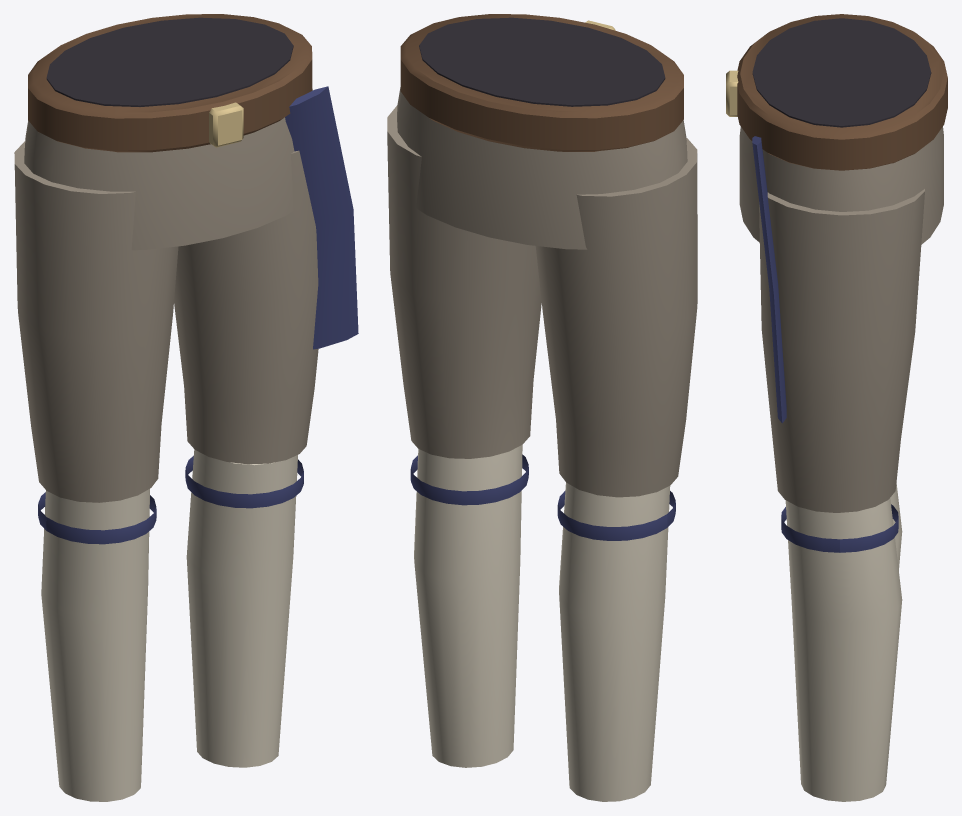
Rendered from scholars_breeches.glb.
The picture shows the model from 3 angles, left to right: view 1: azimuth 30°, elevation 25°; view 2: azimuth 150°, elevation 25°; view 3: azimuth 270°, elevation 25°; orthographic projection. The views are drawn at different scales.
Visible parts, largest first — view 1: scholars_breeches; view 2: scholars_breeches; view 3: scholars_breeches.
Boxes of the visible parts, bbox=[...] form: scholars_breeches: bbox=[14, 14, 358, 801]; scholars_breeches: bbox=[387, 14, 697, 801]; scholars_breeches: bbox=[726, 14, 947, 801].
Size of the model in its own units: 0.316 by 0.7066 by 0.2084.
